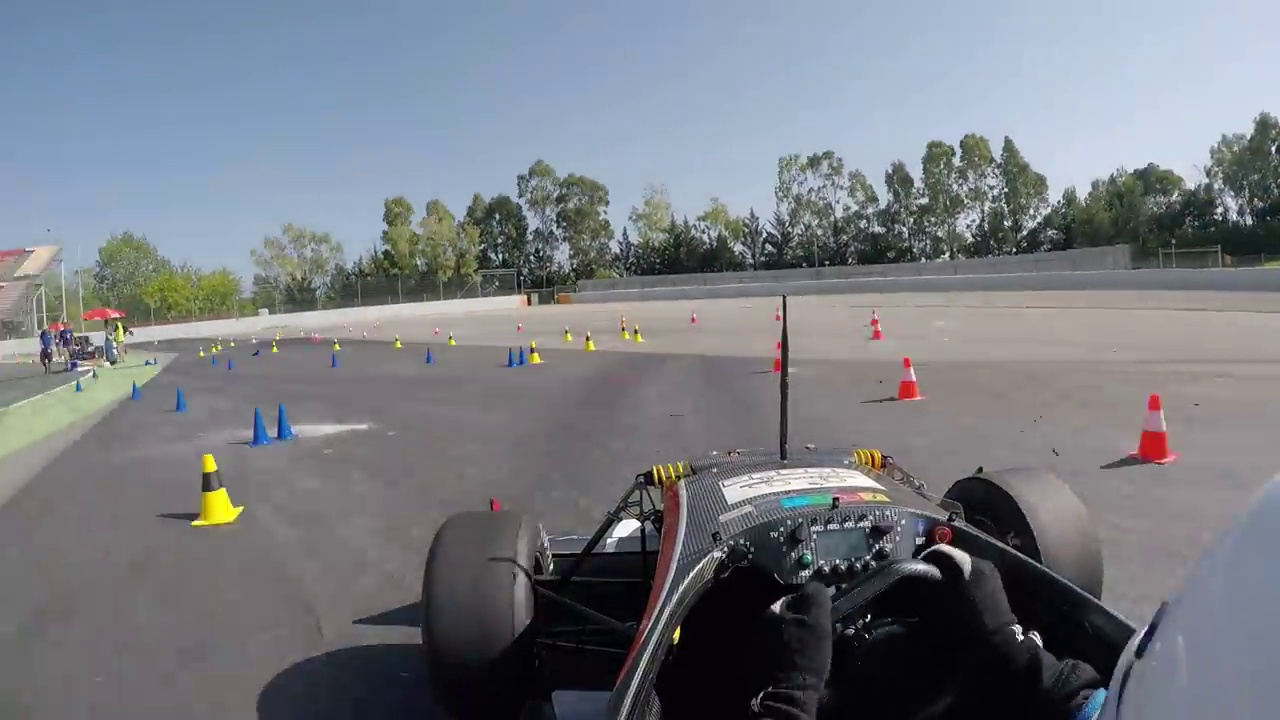Cone: (193, 450, 245, 527), (1134, 390, 1176, 462), (894, 356, 918, 402), (275, 400, 299, 440), (248, 406, 272, 446)
